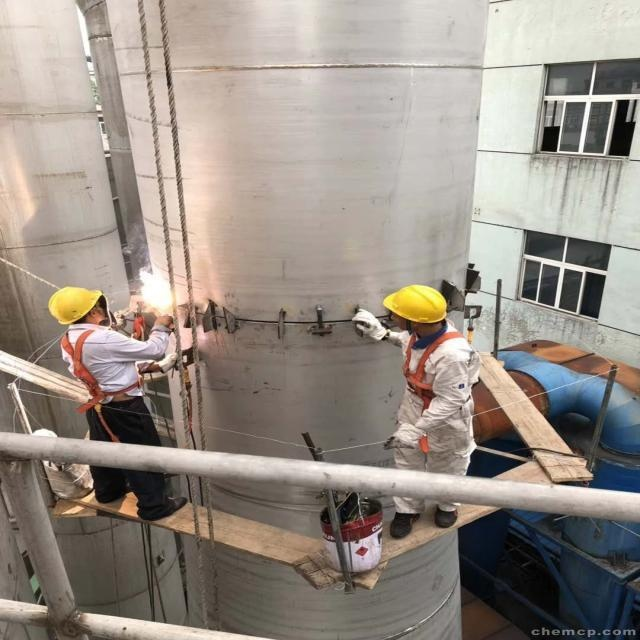Arnes_seguridad: (55, 325, 148, 404), (389, 322, 471, 406)
